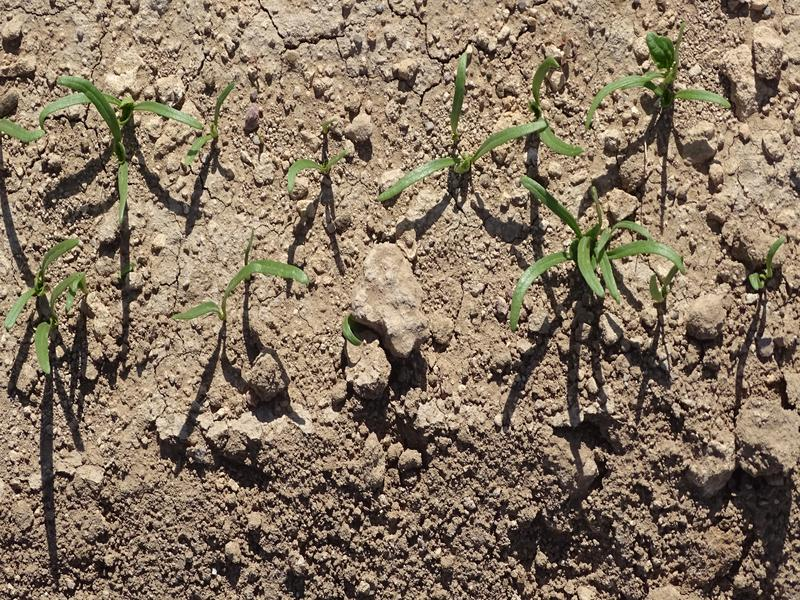Espinaca: (47, 66, 238, 206), (513, 175, 685, 320), (388, 53, 533, 197), (595, 30, 738, 123), (6, 230, 86, 377), (175, 259, 312, 323), (535, 61, 584, 153), (289, 138, 343, 192), (339, 316, 360, 347)
